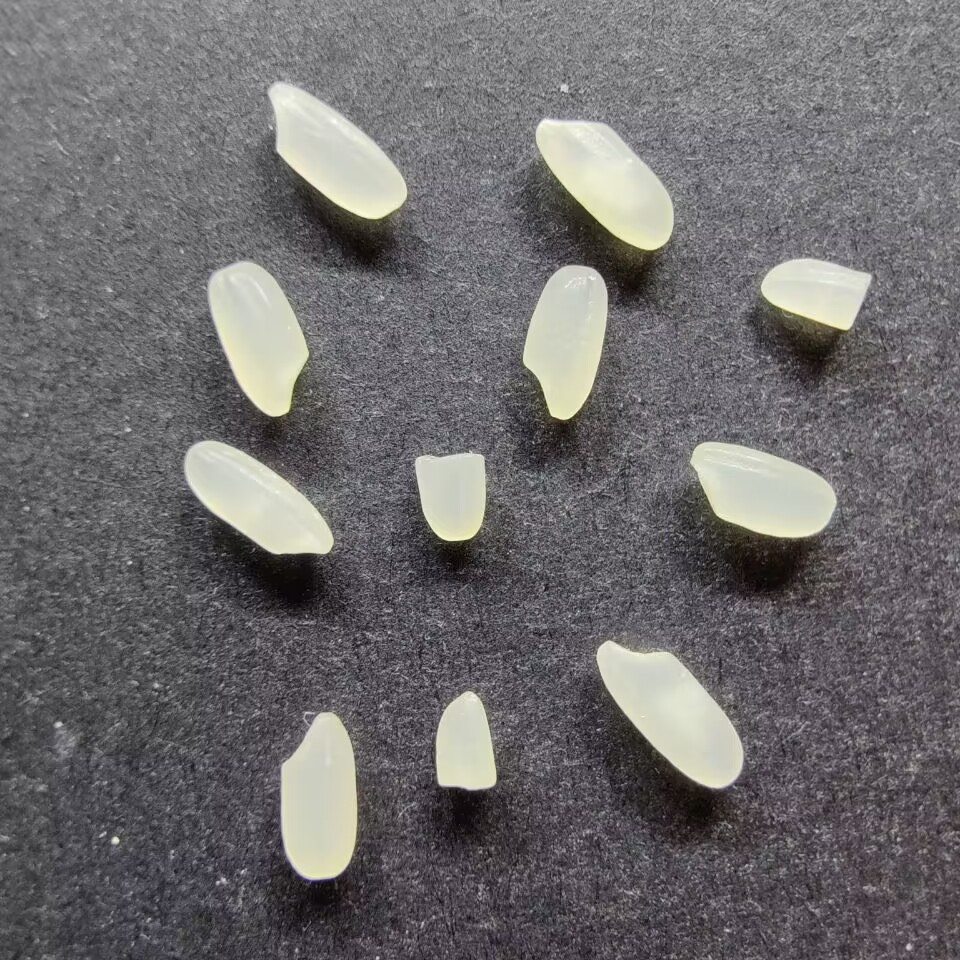broken: (759, 257, 873, 332), (414, 451, 489, 544), (431, 690, 500, 791)
rice: (595, 637, 744, 791), (263, 80, 410, 219), (533, 117, 675, 251), (183, 439, 338, 557), (205, 259, 312, 419), (688, 440, 837, 539), (277, 710, 359, 881), (520, 262, 608, 420)
